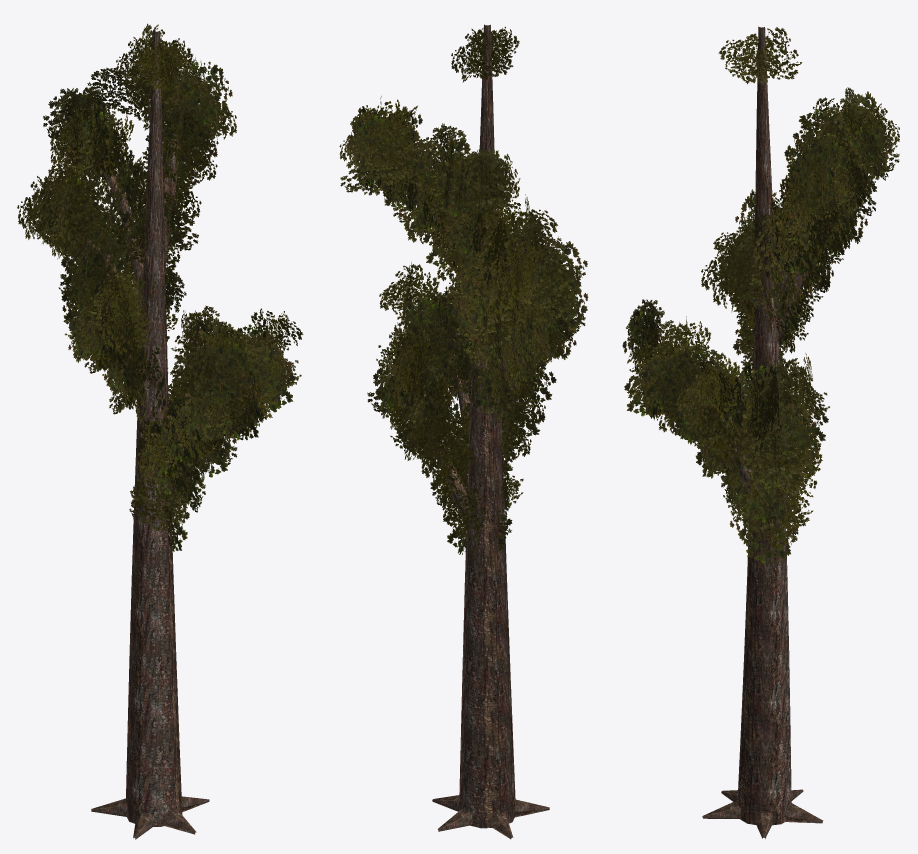
File: tree_3d_02_lod0.glb
3 views of the same model, side by side, from view 1: azimuth 30°, elevation 25°; view 2: azimuth 150°, elevation 25°; view 3: azimuth 270°, elevation 25° (orthographic).
Visible parts, largest first — view 1: foliage_cards, wood_geometry; view 2: foliage_cards, wood_geometry; view 3: foliage_cards, wood_geometry.
Part boxes in pixels (box(x1,y1,x2,y2)): foliage_cards: box(17, 23, 303, 551); wood_geometry: box(54, 30, 269, 839); foliage_cards: box(339, 26, 588, 555); wood_geometry: box(385, 24, 552, 839); foliage_cards: box(622, 27, 899, 564); wood_geometry: box(656, 26, 867, 838).
Bounding box in the file's own units: 3.82 × 12.59 × 4.1.
2 materials, 2 textured.
